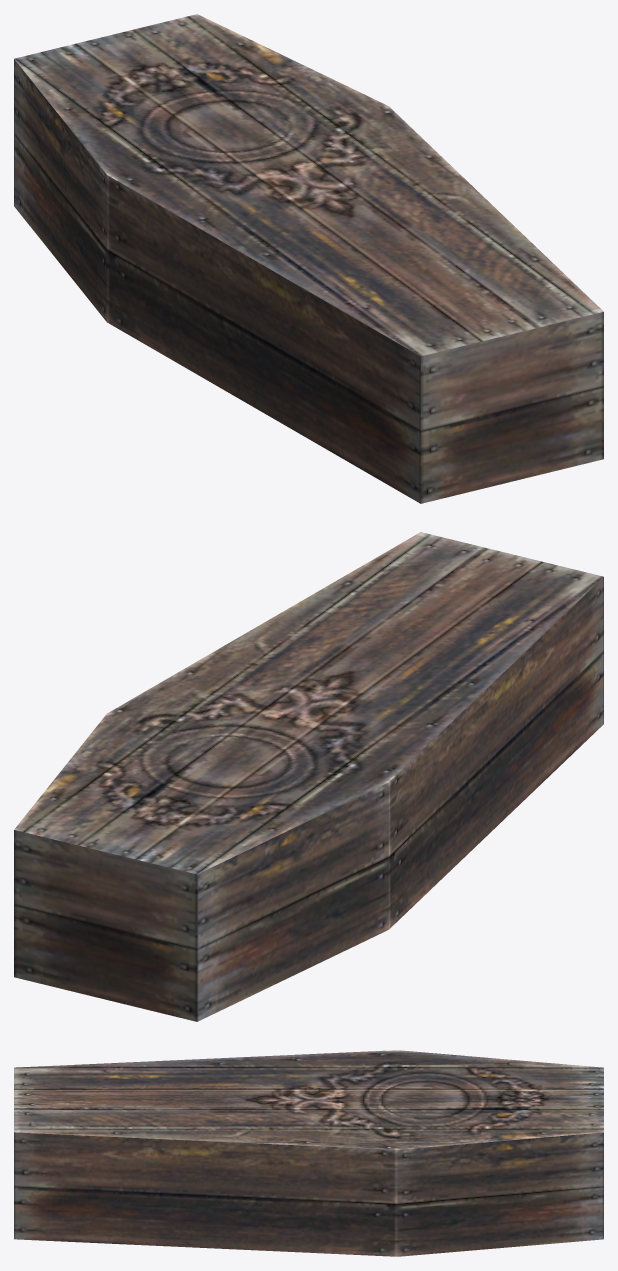
File: d_grob1.glb
3 views of the same model, one above another, from view 1: azimuth 30°, elevation 25°; view 2: azimuth 150°, elevation 25°; view 3: azimuth 270°, elevation 25° (orthographic). The views are drawn at different scales.
Visible parts, largest first — view 1: d_grob1-col; view 2: d_grob1-col; view 3: d_grob1-col.
Boxes of the visible parts, x1,y1,x2,y2 form: d_grob1-col: (14, 14, 603, 503); d_grob1-col: (14, 532, 603, 1021); d_grob1-col: (14, 1050, 603, 1256).
Bounding box in the file's own units: 0.8 × 0.4001 × 2.
1 material, 1 textured.
